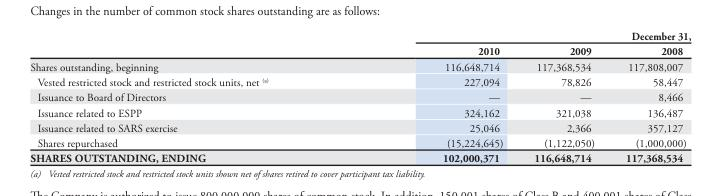table: (29, 29, 690, 164)
table column: (29, 29, 354, 164), (354, 29, 518, 164), (518, 29, 609, 164), (609, 29, 690, 164)
table column header: (29, 29, 690, 58)
table row: (29, 58, 690, 74), (29, 104, 690, 120), (29, 43, 690, 58), (29, 74, 690, 89), (29, 89, 690, 104), (29, 120, 690, 135), (29, 135, 690, 150), (29, 29, 690, 43), (29, 150, 690, 164)
table spanning cell: (354, 29, 690, 43)
